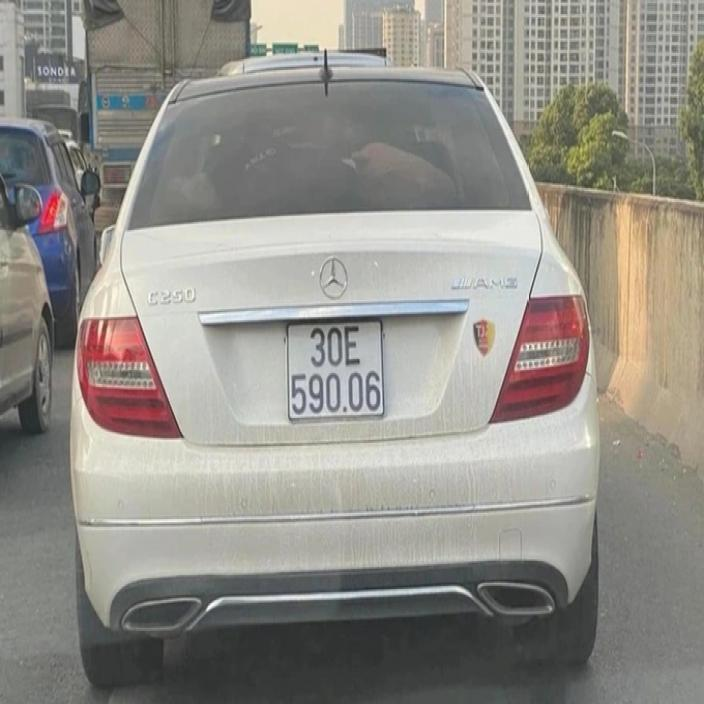numplate: (284, 312, 383, 418)
